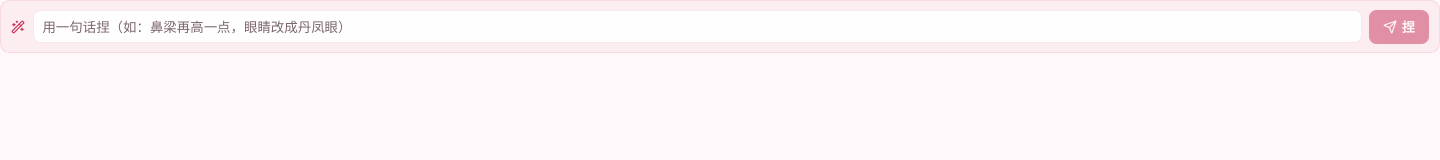
FaceSculptInstruct › sends the sentence as a proposal and hands the sculpt to the parent
Expected: the button named "发送" is disabled, [1369,10,1429,44]
Step 1. Type "鼻梁再高一点，眼睛改成丹凤眼" into the field labelled "用一句话捏" → (697, 27), box [33,10,1362,43]
Then press Enter
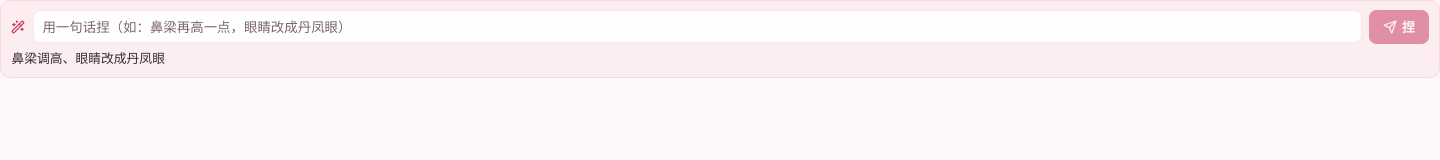
Result: the message reads "鼻梁调高、眼睛改成丹凤眼" at [11,49,165,67]
